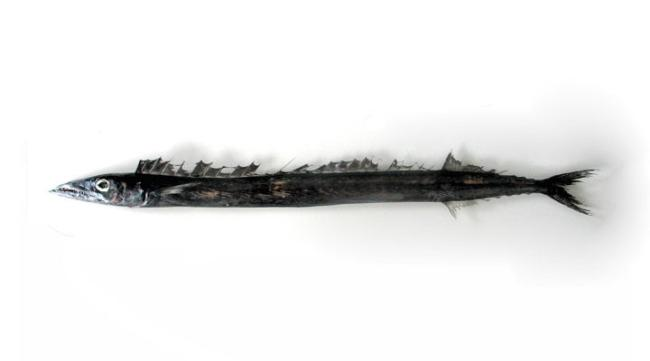fish: (49, 149, 601, 221)
